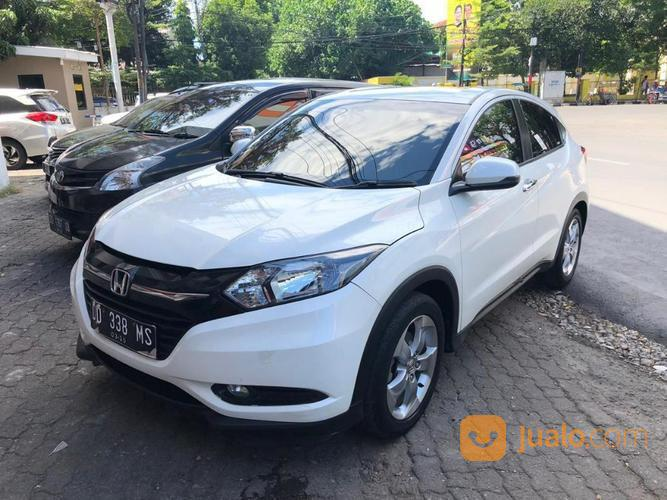plate: (89, 296, 160, 363)
